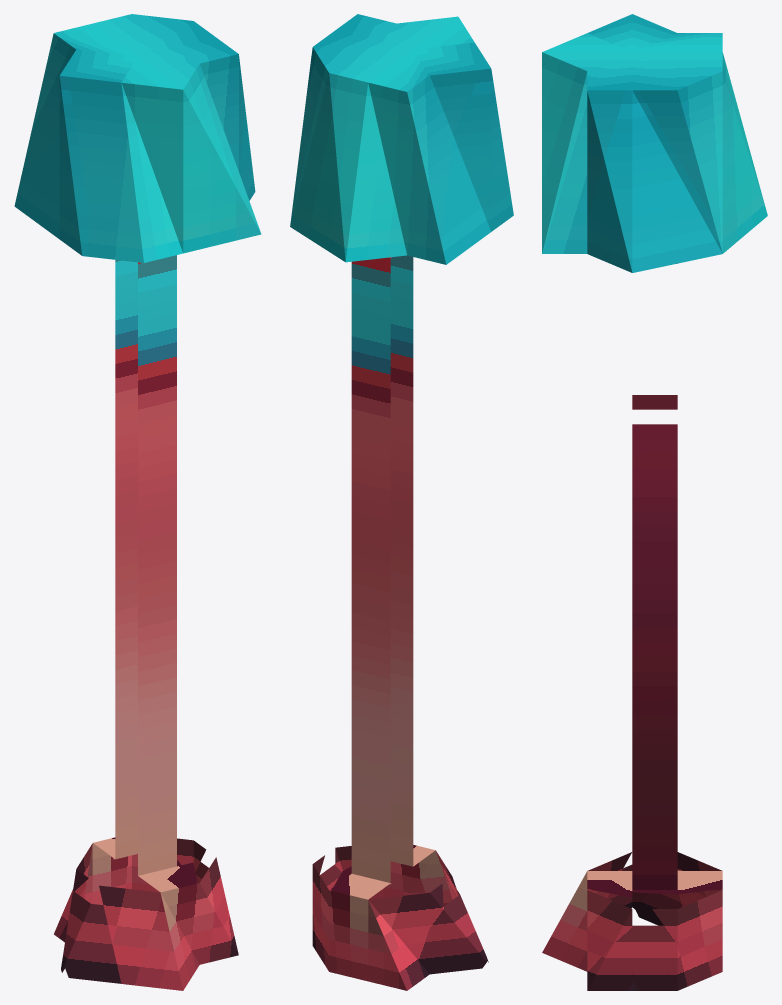
Rendered from lamp.obj.
3 views of the same model, side by side, from view 1: azimuth 30°, elevation 25°; view 2: azimuth 150°, elevation 25°; view 3: azimuth 270°, elevation 25° (orthographic).
Size of the model in its own units: 0.1932 by 0.85 by 0.1932.
